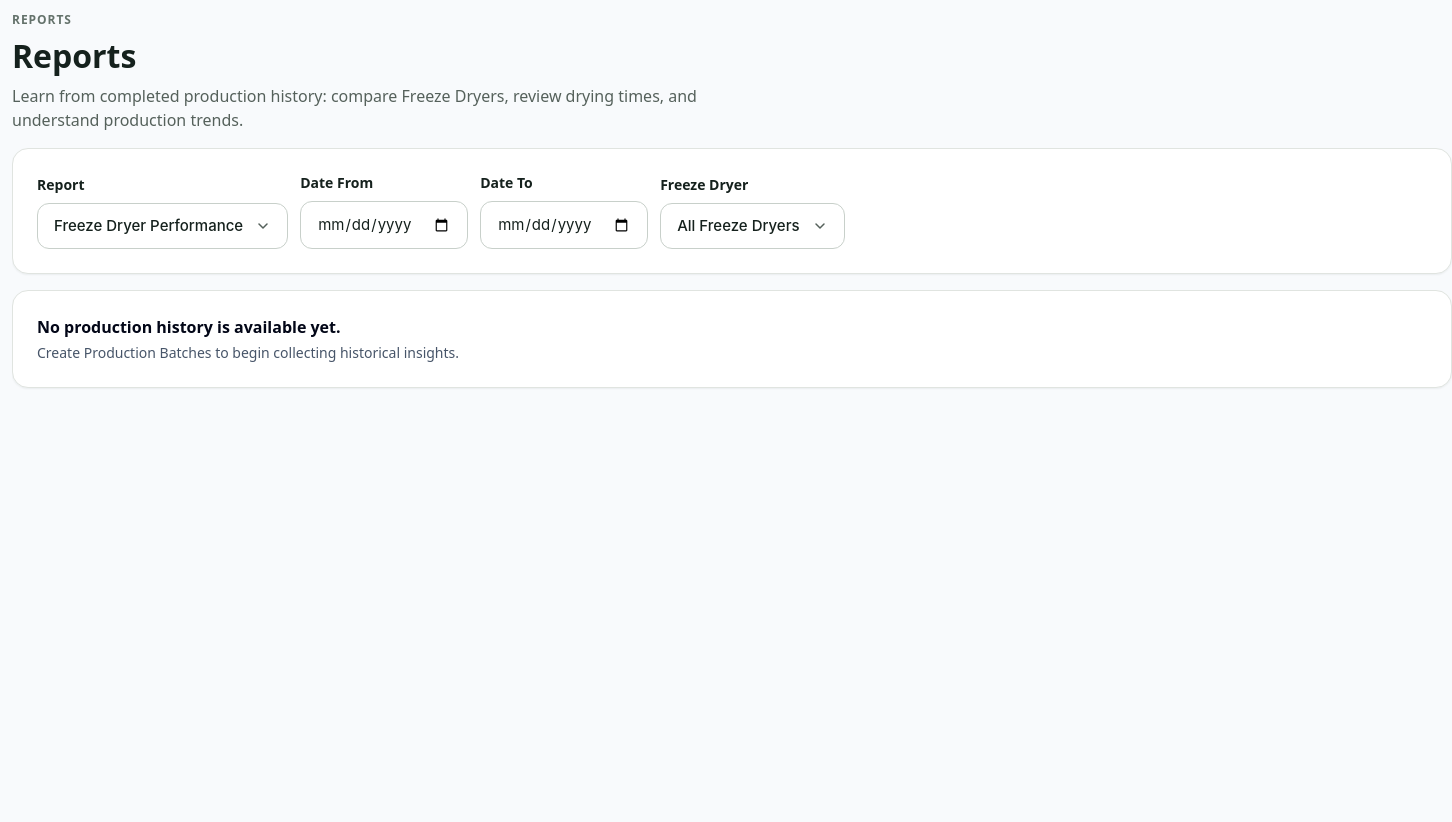
Scenario: ReportsPage › expands a Product History row to its Production History detail, and re-expanding after collapse doesn't refetch
Check: the text "No production history is available yet." is shown, box left=37, top=316, right=341, bottom=338
What coordinates should you click on to do the following:
click the dropdown named "Report"
I would click on:
 (163, 226)
Its box is left=37, top=203, right=288, bottom=249.
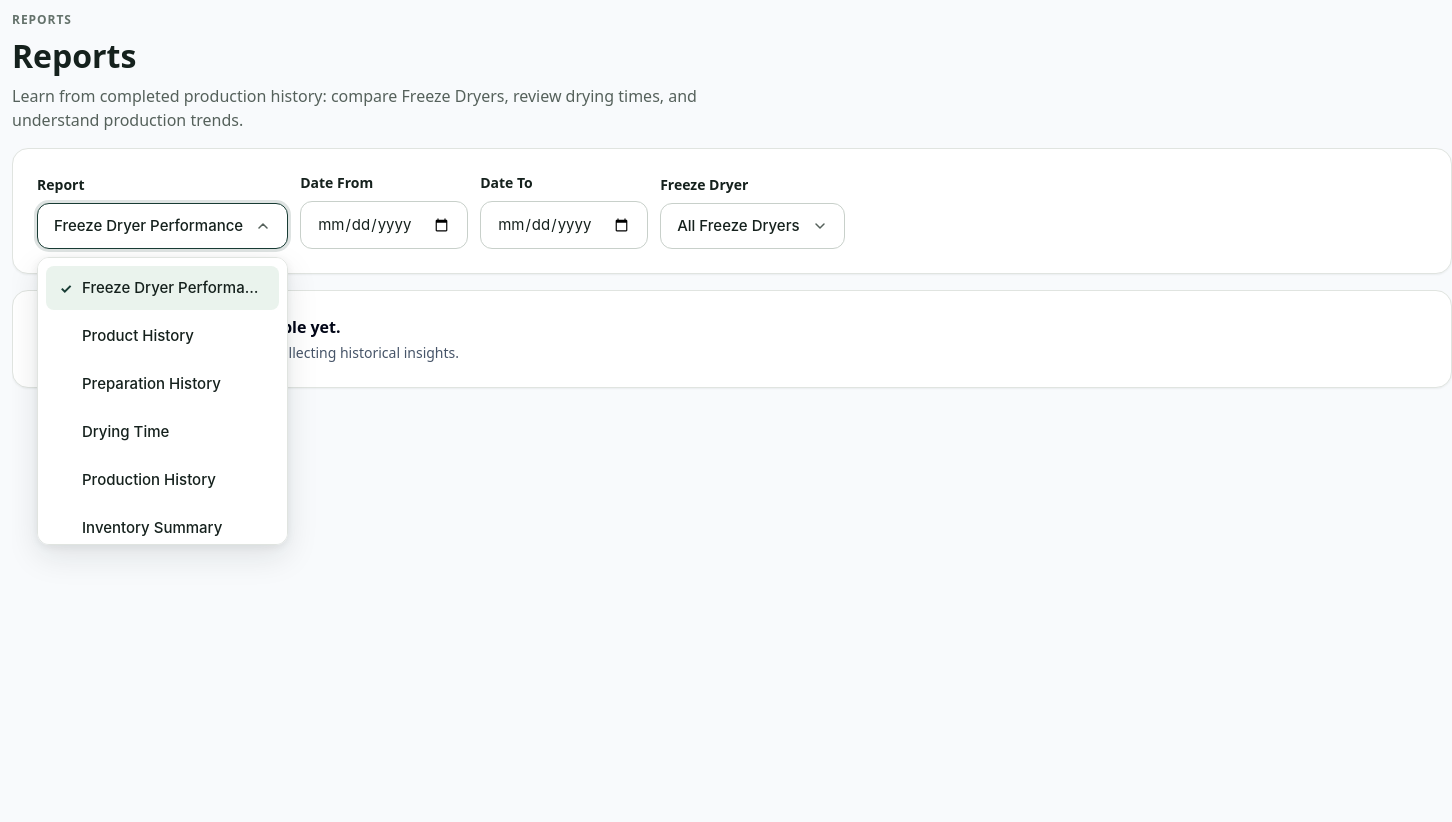
What coordinates should you click on to do the following:
click the option "Product History"
I would click on:
 (163, 336)
Its box is left=46, top=314, right=279, bottom=358.
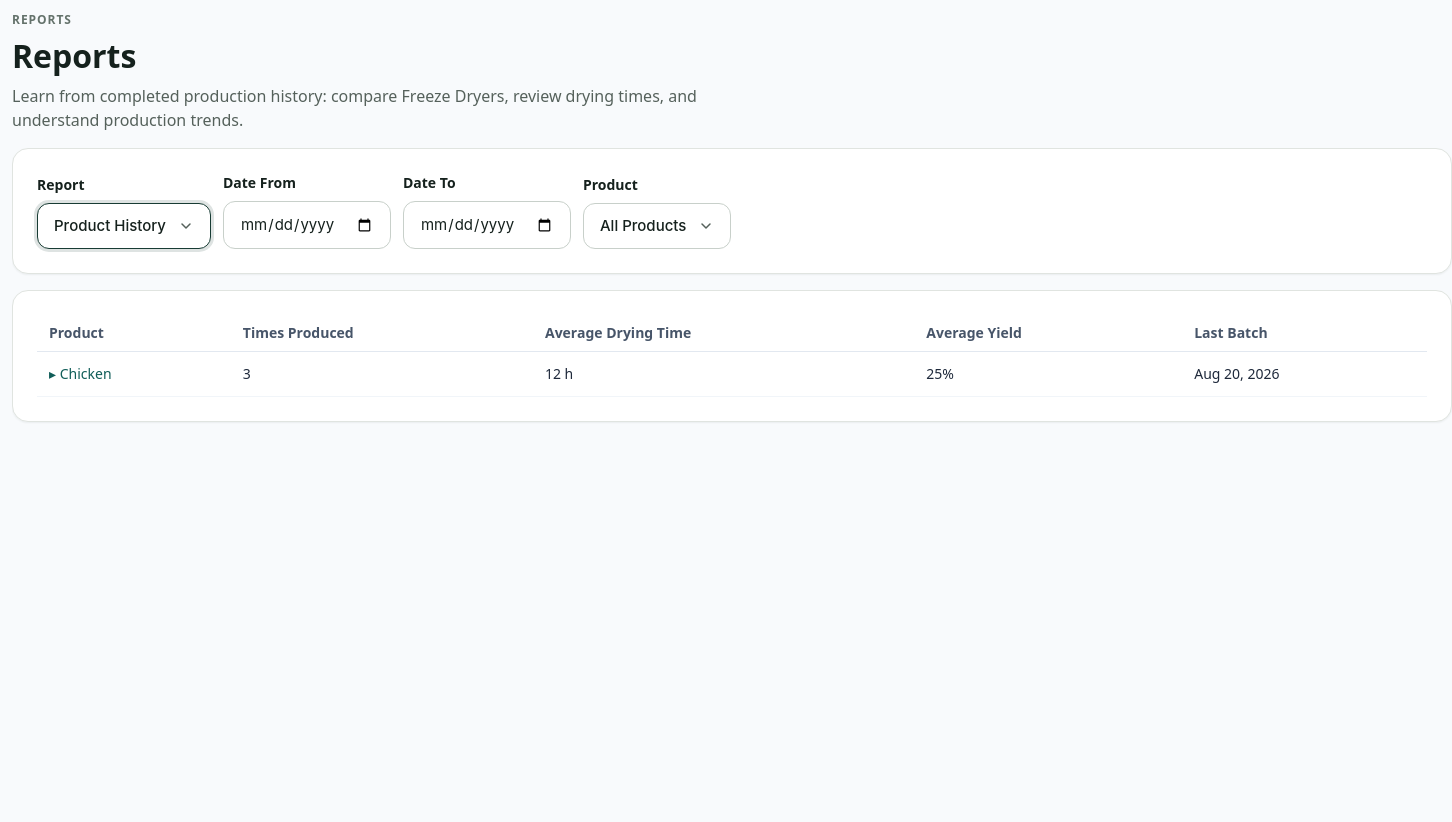
Check: the button "▸ Chicken" is shown
What coordinates should you click on to do the following:
click the button "▸ Chicken"
I would click on:
 (80, 374)
Its box is left=49, top=364, right=112, bottom=384.
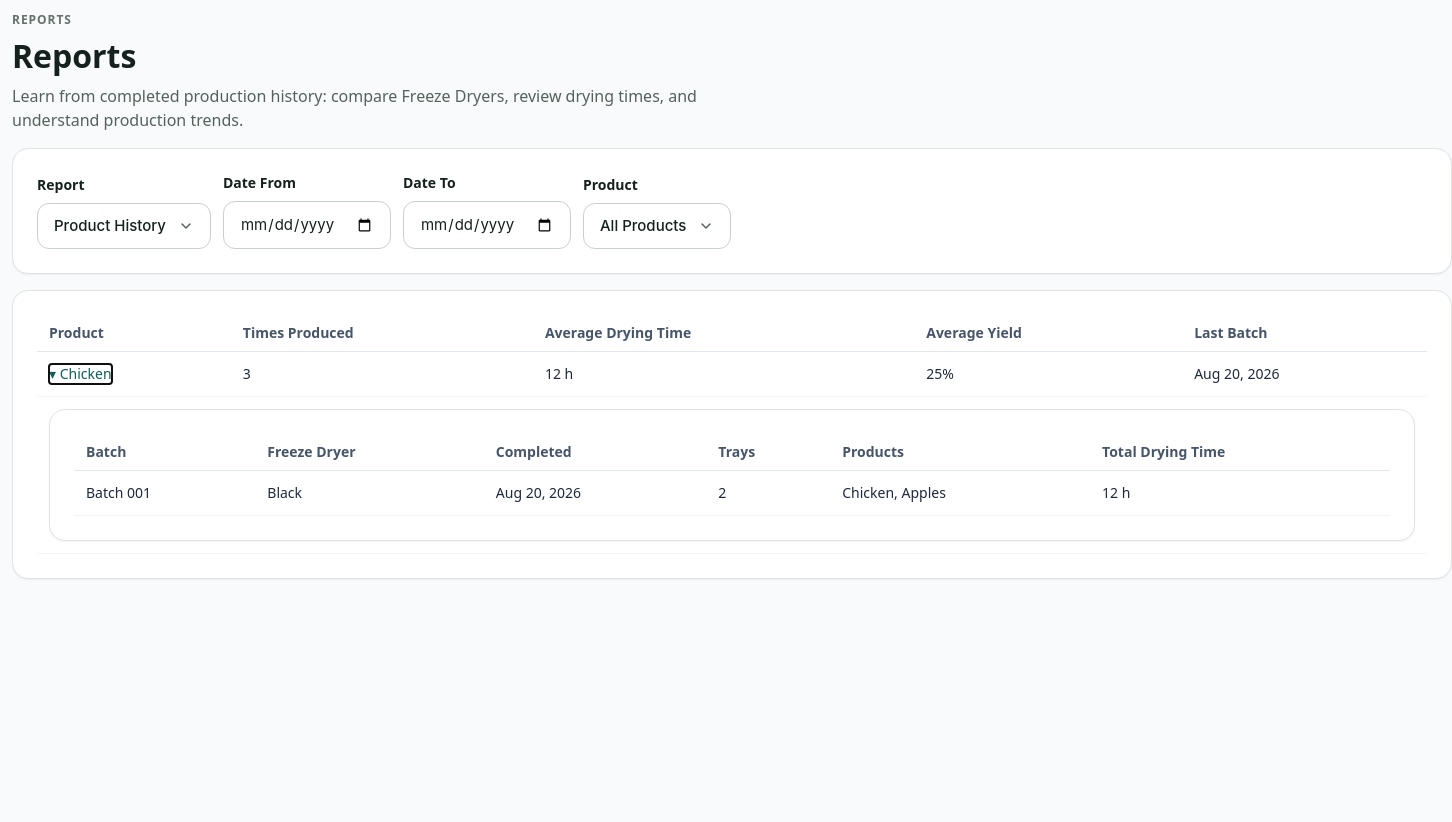
Check: the text "Batch 001" is shown, box left=74, top=470, right=255, bottom=516
What coordinates should you click on to do the following:
click the button "▾ Chicken"
I would click on:
 (80, 374)
Its box is left=49, top=364, right=112, bottom=384.
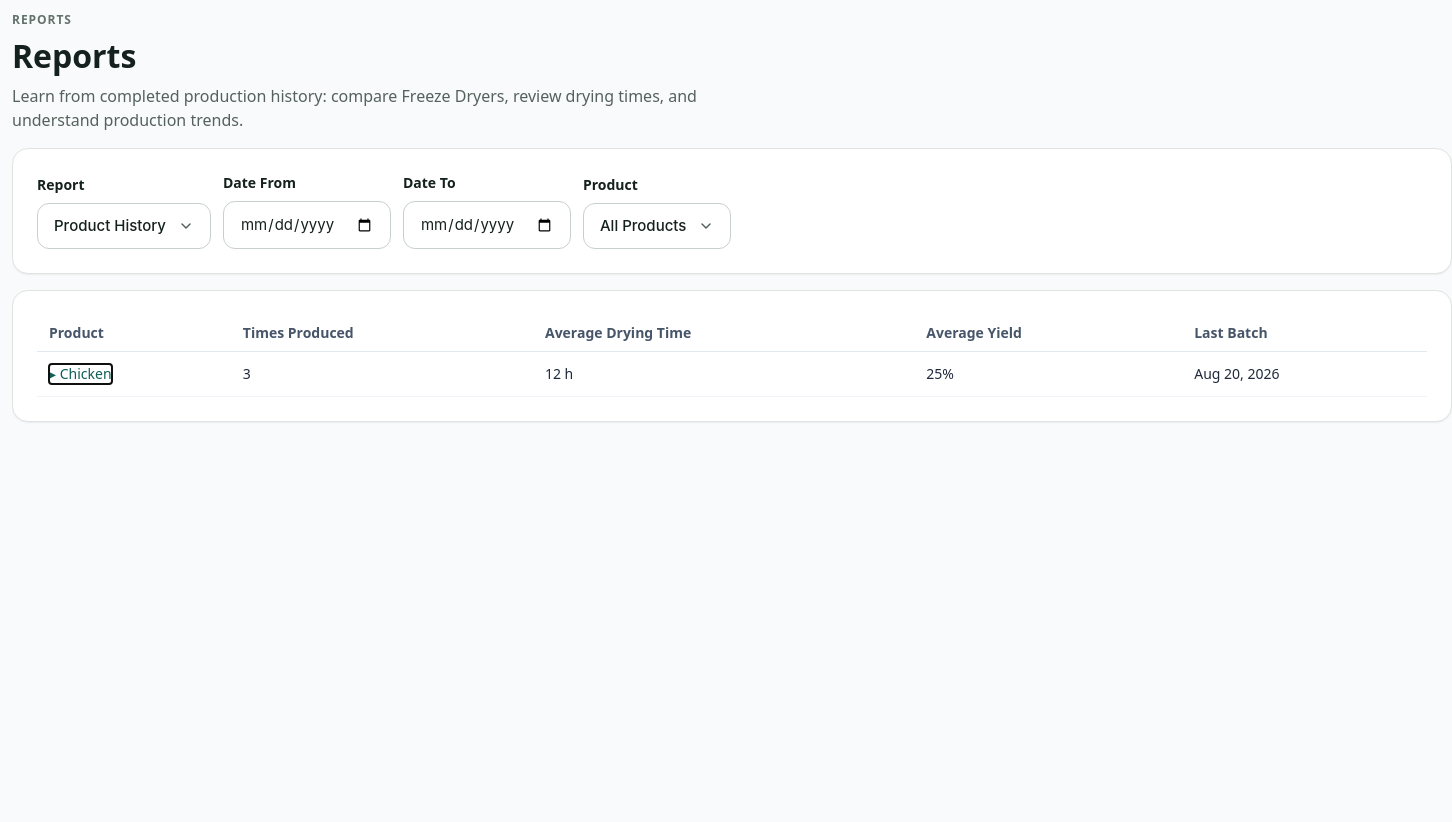
Check: the text "Batch 001" is gone
What coordinates should you click on to do the following:
click the button "▸ Chicken"
I would click on:
 (80, 374)
Its box is left=49, top=364, right=112, bottom=384.
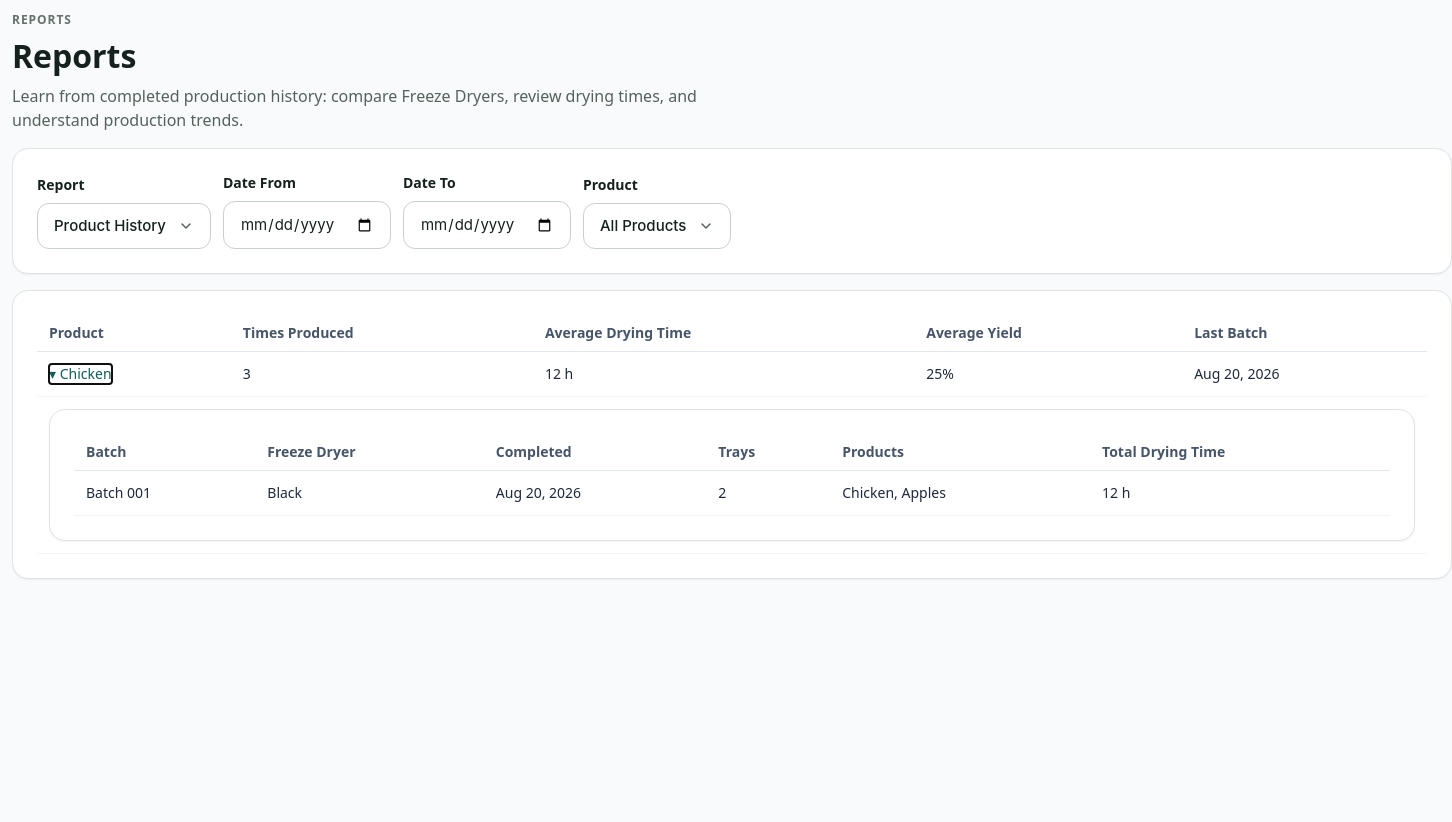
Check: the text "Batch 001" is shown, box left=74, top=470, right=255, bottom=516
